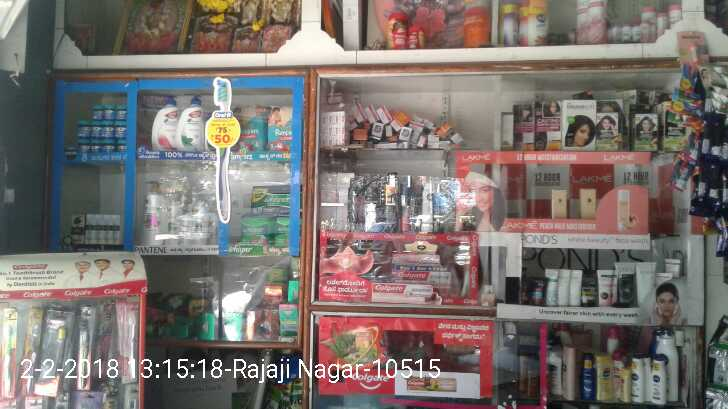beauty: (139, 96, 178, 152), (177, 92, 205, 152), (141, 188, 166, 245)
pharmacy: (232, 104, 267, 155), (253, 186, 290, 218), (269, 109, 291, 154), (113, 119, 128, 139), (88, 118, 101, 139), (75, 120, 90, 138), (103, 102, 115, 121), (77, 139, 91, 155), (90, 103, 102, 121), (102, 121, 114, 139), (91, 137, 103, 155), (101, 138, 115, 153), (115, 104, 126, 123), (116, 138, 129, 153)
